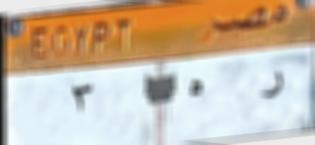3: (60, 79, 101, 115)
haa: (183, 75, 209, 107)
raa: (257, 63, 288, 106)
